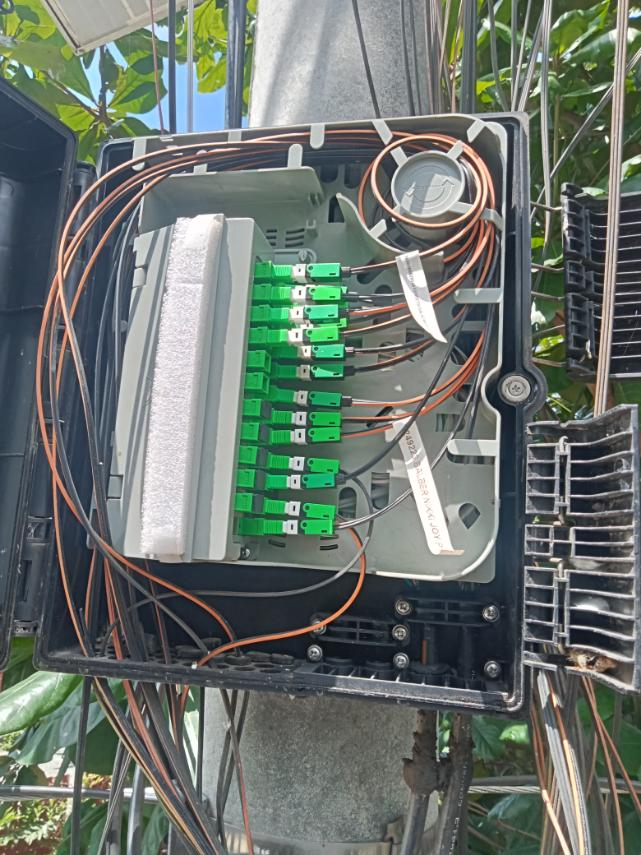no dust cap: (263, 351, 272, 373), (262, 373, 270, 394)
no port: (229, 517, 240, 536)
occupied: (271, 303, 347, 329), (275, 388, 355, 411), (282, 282, 360, 304), (271, 425, 344, 448), (270, 327, 343, 350), (273, 263, 353, 283), (269, 472, 346, 492), (265, 500, 338, 521), (271, 286, 346, 306), (271, 455, 342, 475), (279, 363, 357, 381), (281, 344, 357, 362), (281, 316, 353, 334), (272, 410, 345, 427), (265, 519, 335, 536), (282, 299, 350, 316)
vacant: (261, 400, 272, 421), (253, 495, 265, 513), (258, 448, 269, 467), (260, 425, 271, 444), (255, 471, 265, 490)
